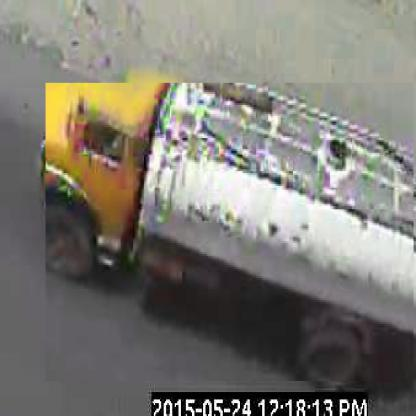truck: (47, 84, 416, 384)
